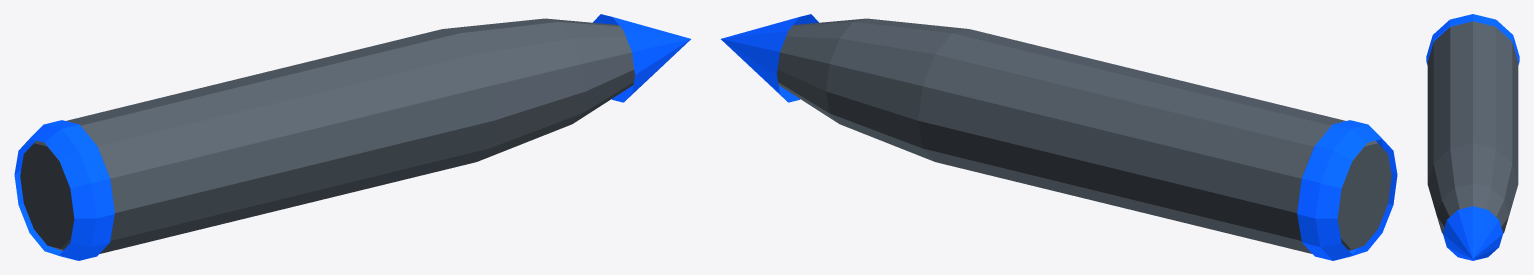
The model's file is f_philippines.glb.
3 renders of one model, left to right at view 1: azimuth 30°, elevation 25°; view 2: azimuth 150°, elevation 25°; view 3: azimuth 270°, elevation 25°, orthographic. The views are drawn at different scales.
Visible parts, largest first — view 1: Projectile / tapered copper-alloy jacket.065, Projectile / rear tracer compound.065, Projectile / luminous nose.065; view 2: Projectile / tapered copper-alloy jacket.065, Projectile / rear tracer compound.065, Projectile / luminous nose.065; view 3: Projectile / tapered copper-alloy jacket.065, Projectile / luminous nose.065, Projectile / rear tracer compound.065.
Boxes of the visible parts, box(x1,y1,x2,y2) form: Projectile / tapered copper-alloy jacket.065: box(20, 18, 634, 253); Projectile / rear tracer compound.065: box(14, 120, 114, 260); Projectile / luminous nose.065: box(593, 14, 690, 102); Projectile / tapered copper-alloy jacket.065: box(777, 18, 1391, 253); Projectile / rear tracer compound.065: box(1297, 120, 1397, 260); Projectile / luminous nose.065: box(721, 14, 818, 102); Projectile / tapered copper-alloy jacket.065: box(1427, 21, 1518, 233); Projectile / luminous nose.065: box(1442, 206, 1503, 260); Projectile / rear tracer compound.065: box(1426, 14, 1519, 65).
Size of the model in its own units: 0.424 by 0.08 by 0.08.
